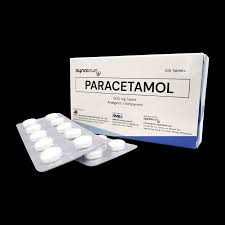Paracetamol: (79, 84, 174, 89)
